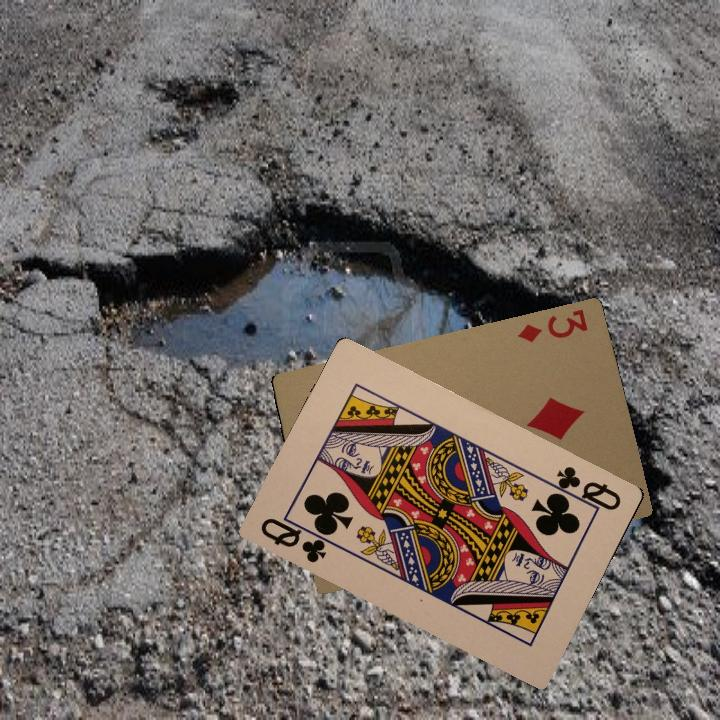3d: (514, 305, 591, 345)
Qc: (256, 510, 337, 566), (545, 461, 624, 514)
